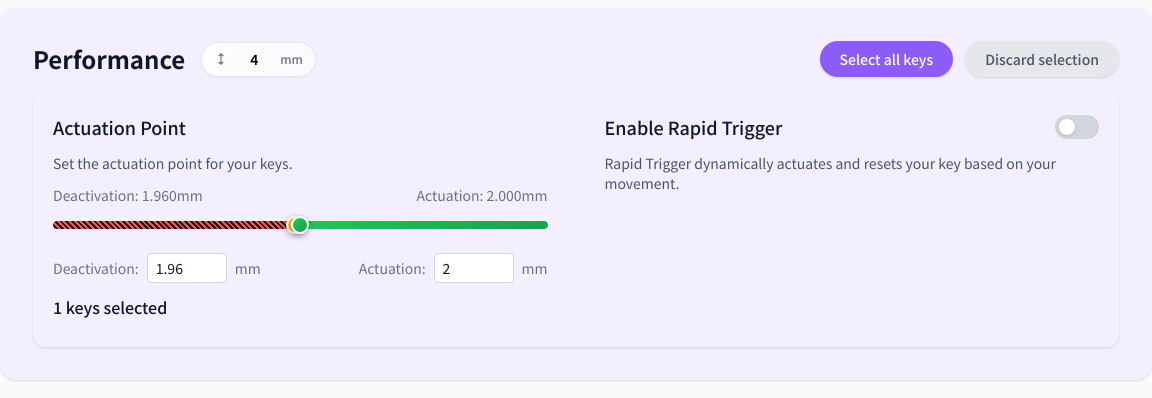
PerformancePage › brush (§1.4) › stays loaded after deselecting all, instead of loading the next key
Set the slider named "Actuation" to "3" at (420, 225), box [53,213,548,237]
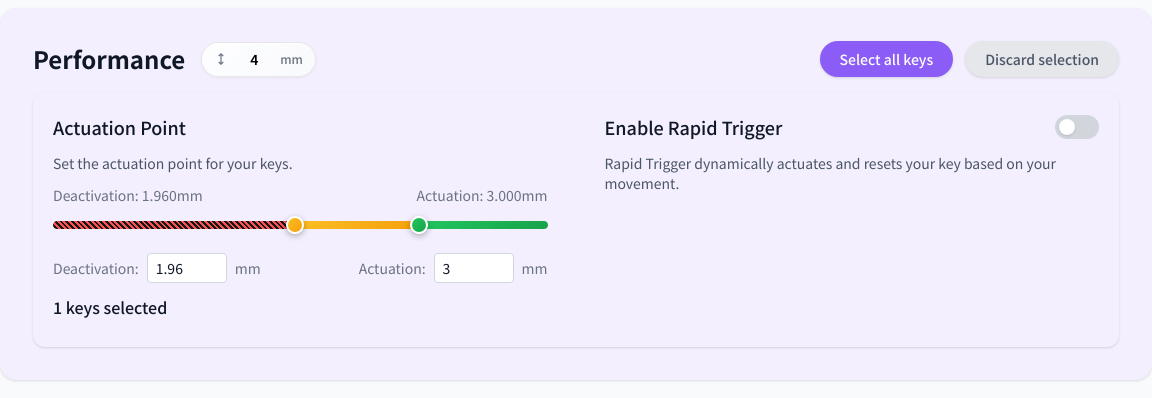
Expected: the switch named "Rapid Trigger Toggle" is not checked, [1055,115,1099,139]
Expected: the text "Actuation: 3.000mm" is shown, [416,185,548,205]
